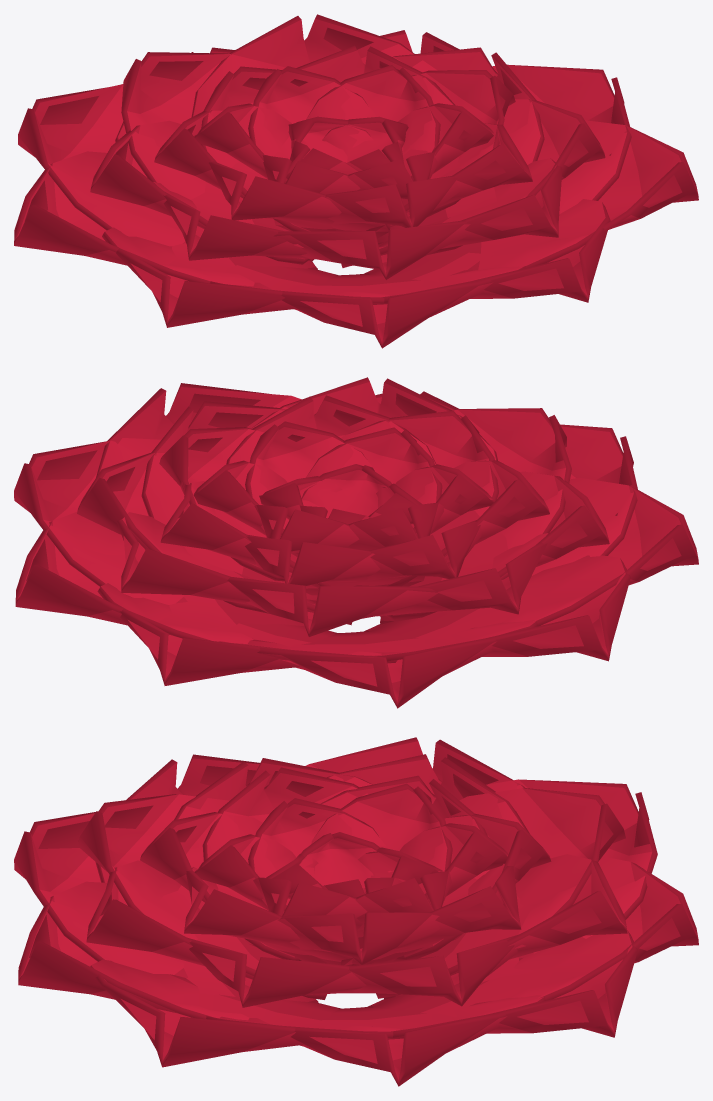
File: garden-rose-bloom-head-3-c41e39.glb
3 renders of one model, top to bottom at view 1: azimuth 30°, elevation 25°; view 2: azimuth 150°, elevation 25°; view 3: azimuth 270°, elevation 25°, orthographic. The views are drawn at different scales.
Visible parts, largest first — view 1: rose-bloom-head-3-c41e39; view 2: rose-bloom-head-3-c41e39; view 3: rose-bloom-head-3-c41e39.
Part boxes in pixels (bbox=[...]): rose-bloom-head-3-c41e39: bbox=[14, 14, 698, 348]; rose-bloom-head-3-c41e39: bbox=[14, 377, 698, 708]; rose-bloom-head-3-c41e39: bbox=[14, 737, 698, 1086].
Bounding box in the file's own units: 0.1594 × 0.0402 × 0.1493.
